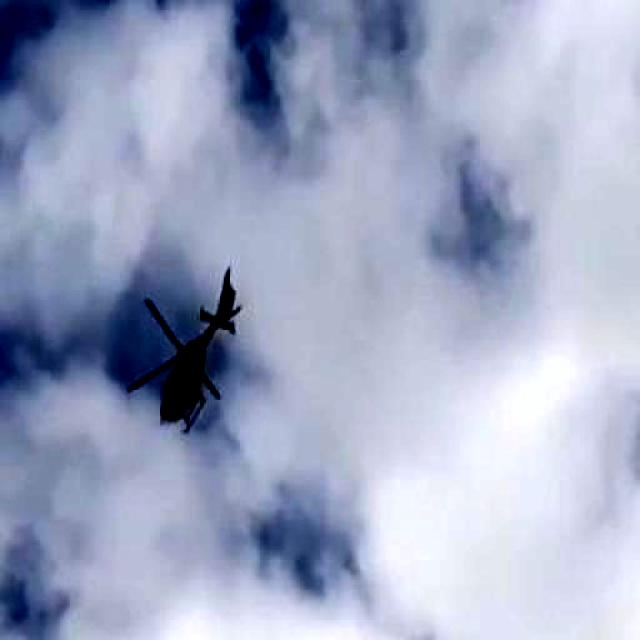drone: (105, 244, 292, 454)
